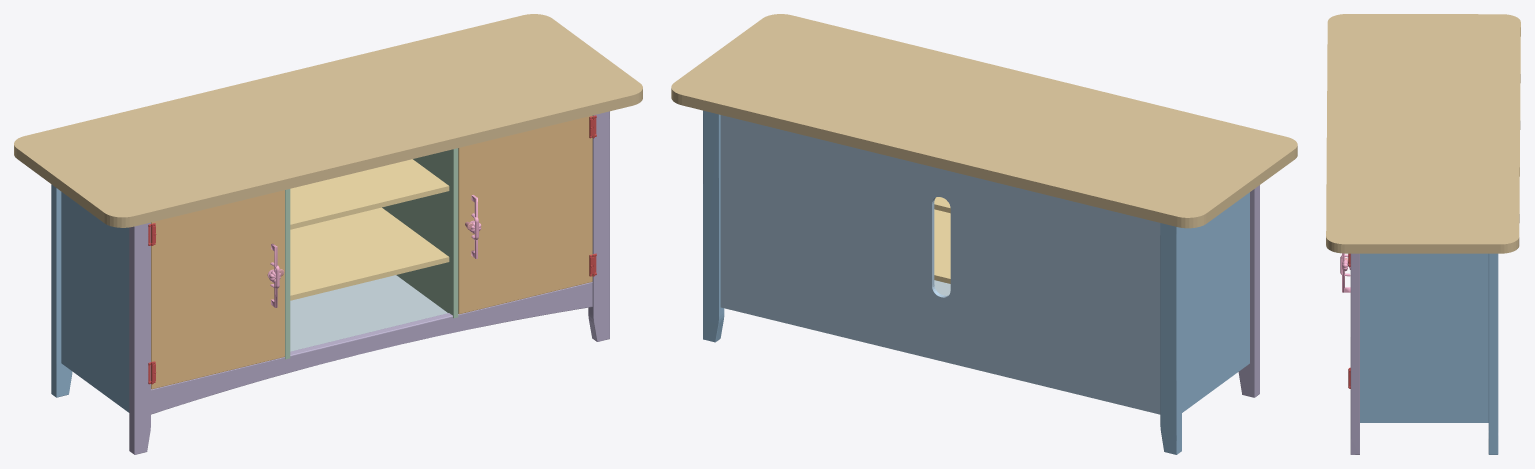
File: case_flat.glb
3 renders of one model, left to right at view 1: azimuth 30°, elevation 25°; view 2: azimuth 150°, elevation 25°; view 3: azimuth 270°, elevation 25°, orthographic. The views are drawn at different scales.
Parts seen in each view (by area): view 1: TOPSHAPE_ROUNDED__panel, slot05_door__mesh0, TOPSHAPE_CHAMFERED__panel, slot06_face_frame__mesh0, PMN__slot04_door__mesh0, slot11_side_panel__mesh0, slot10_shelf__mesh0, slot01_bottom_panel__mesh0, slot03_divider__mesh0, slot09_shelf__mesh0, slot04_door__mesh0, PMN__slot05_door__mesh0 (+1 smaller); view 2: slot00_back_panel__mesh0, TOPSHAPE_ROUNDED__panel, TOPSHAPE_CHAMFERED__panel, slot11_side_panel__mesh0, slot12_side_panel__mesh0, slot06_face_frame__mesh0, slot10_shelf__mesh0; view 3: TOPSHAPE_ROUNDED__panel, TOPSHAPE_CHAMFERED__panel, slot12_side_panel__mesh0, slot06_face_frame__mesh0.
Boxes of the visible parts, x1,y1,x2,y2 form: TOPSHAPE_ROUNDED__panel: (14,14,642,227); slot05_door__mesh0: (151,190,284,389); TOPSHAPE_CHAMFERED__panel: (26,16,629,215); slot06_face_frame__mesh0: (129,111,609,454); PMN__slot04_door__mesh0: (458,115,592,314); slot11_side_panel__mesh0: (51,184,129,412); slot10_shelf__mesh0: (290,207,449,300); slot01_bottom_panel__mesh0: (290,275,447,351); slot03_divider__mesh0: (382,148,458,318); slot09_shelf__mesh0: (290,159,449,229); slot04_door__mesh0: (458,115,592,313); PMN__slot05_door__mesh0: (151,190,284,388); slot00_back_panel__mesh0: (720,115,1160,414); TOPSHAPE_ROUNDED__panel: (671,14,1297,228); TOPSHAPE_CHAMFERED__panel: (682,16,1286,215); slot11_side_panel__mesh0: (1160,192,1249,454); slot12_side_panel__mesh0: (703,110,724,342); slot06_face_frame__mesh0: (1238,185,1259,397); slot10_shelf__mesh0: (934,209,950,283); TOPSHAPE_ROUNDED__panel: (1326,14,1520,253); TOPSHAPE_CHAMFERED__panel: (1326,22,1520,236); slot12_side_panel__mesh0: (1360,253,1498,454); slot06_face_frame__mesh0: (1350,253,1359,454).
Bounding box in the file's own units: 1.07 × 0.4819 × 0.3825.
